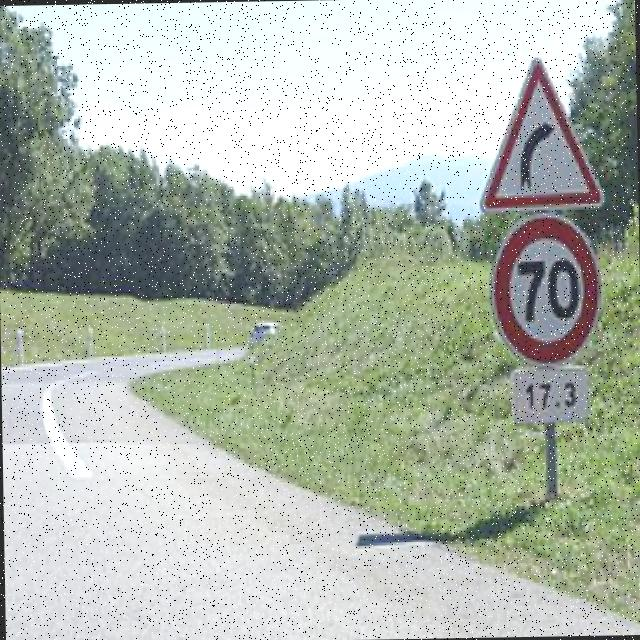Ograniczenie predkosci do 70: (490, 214, 602, 367)
